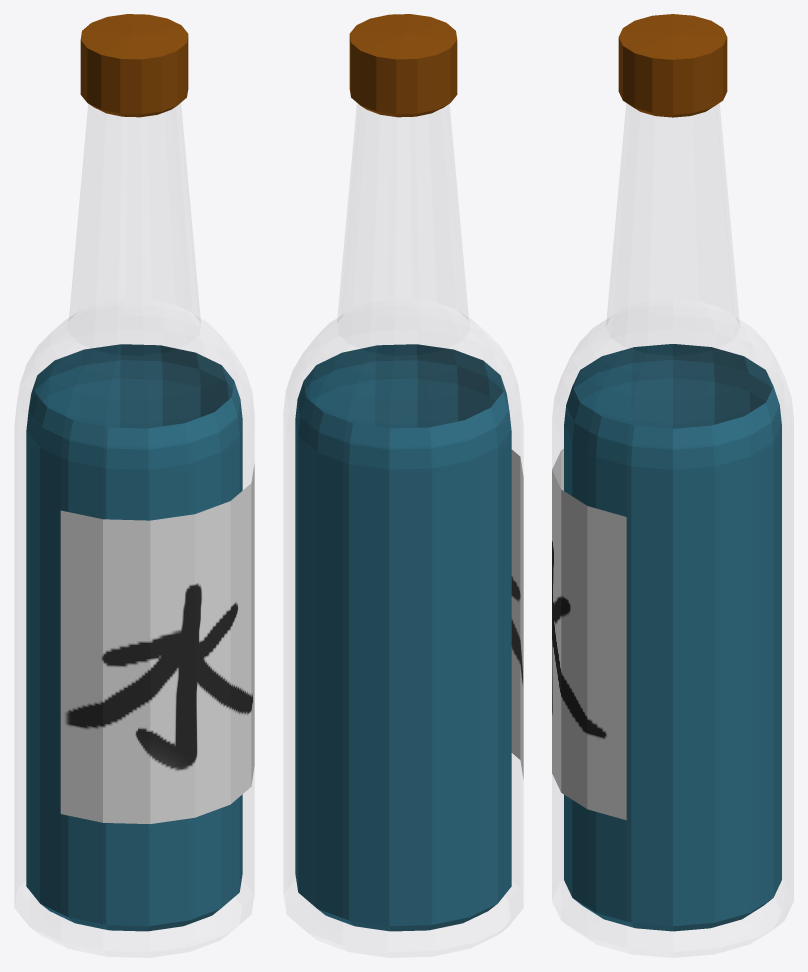
File: mizu.sake.fbx
The picture shows the model from 3 angles, left to right: view 1: azimuth 30°, elevation 25°; view 2: azimuth 150°, elevation 25°; view 3: azimuth 270°, elevation 25°; orthographic projection.
Visible parts, largest first — view 1: Sphere, Sphere.001; view 2: Sphere.001, Sphere; view 3: Sphere.001, Sphere.
Part boxes in pixels (box(x1,y1,x2,y2)): Sphere: box(15, 14, 254, 957); Sphere.001: box(26, 344, 242, 931); Sphere.001: box(295, 344, 511, 931); Sphere: box(284, 14, 523, 957); Sphere.001: box(564, 344, 781, 931); Sphere: box(552, 14, 793, 957).
Size of the model in its own units: 200 by 800 by 200.
Materials: 4 (1 with a texture image).
